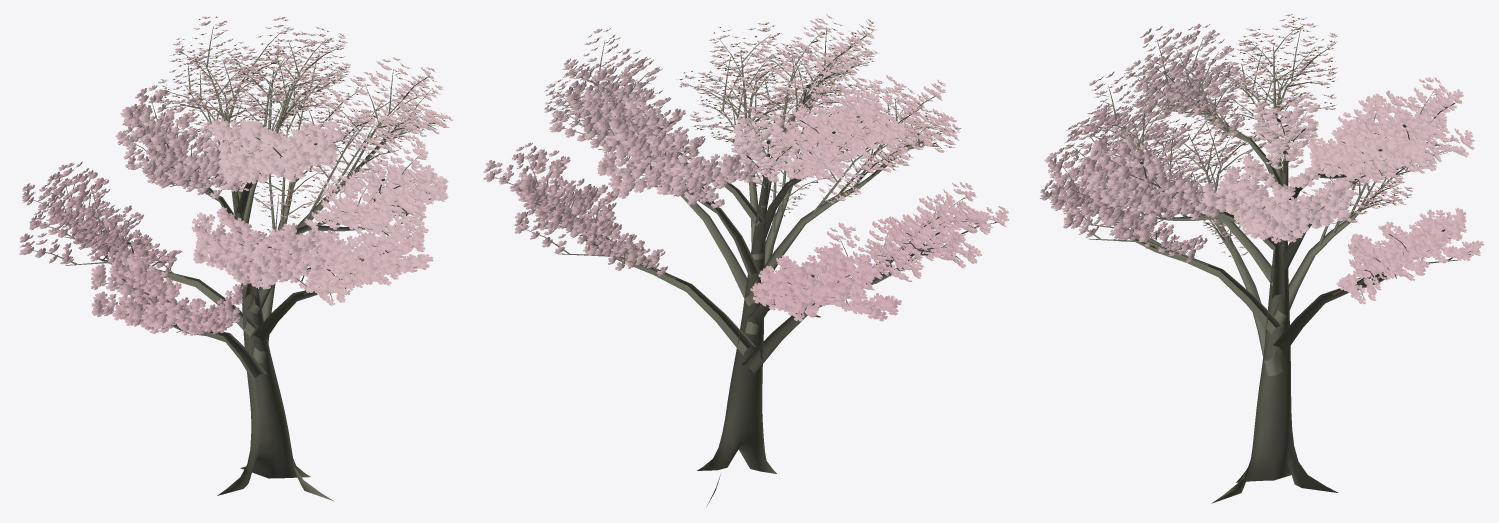
3 views of the same model, side by side, from view 1: azimuth 30°, elevation 25°; view 2: azimuth 150°, elevation 25°; view 3: azimuth 270°, elevation 25° (orthographic). The views are drawn at different scales.
Visible parts, largest first — view 1: leaves, branches; view 2: leaves, branches; view 3: leaves, branches.
Boxes of the visible parts, <box> form: leaves: <box>19,16,453,335</box>; branches: <box>30,26,436,500</box>; leaves: <box>483,14,1009,321</box>; branches: <box>495,27,996,507</box>; leaves: <box>1039,14,1483,304</box>; branches: <box>1051,27,1457,503</box>.
Size of the model in its own units: 8.21 by 8.76 by 8.13.
